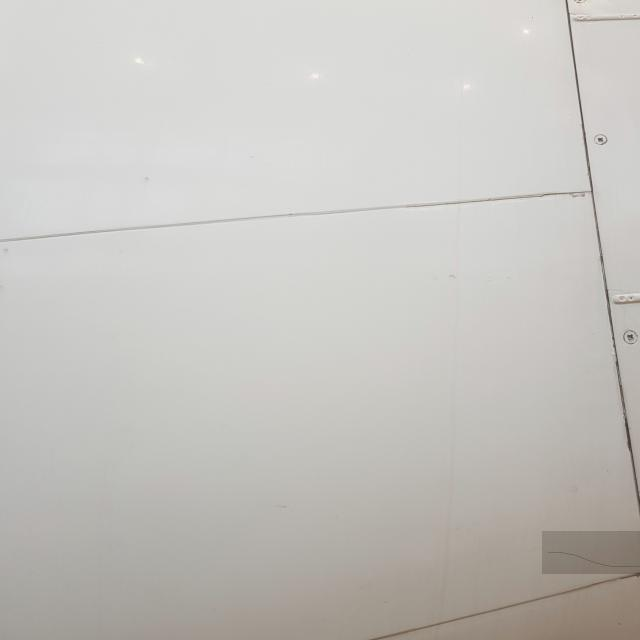crack: (543, 532, 640, 575)
